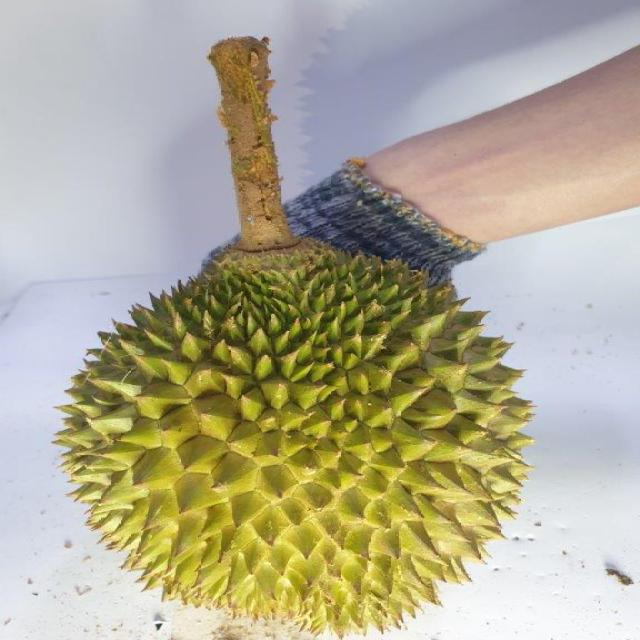immature: (60, 239, 542, 630)
